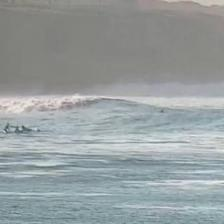surfer: (22, 125, 42, 132), (3, 123, 14, 132), (14, 125, 21, 134), (159, 109, 165, 114)
